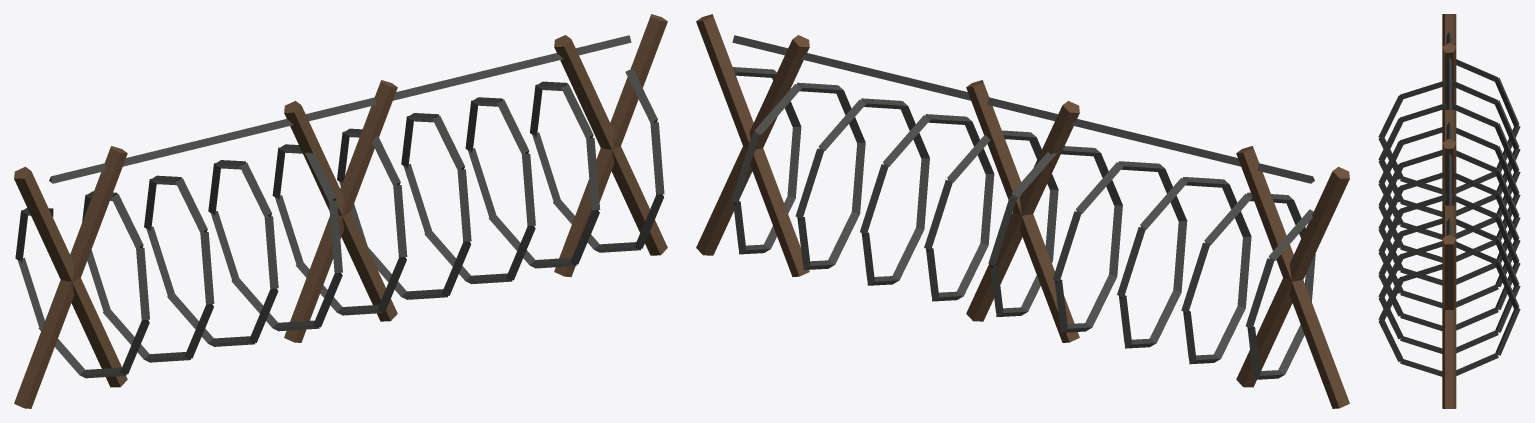
File: barbed_wire.glb
The picture shows the model from 3 angles, left to right: view 1: azimuth 30°, elevation 25°; view 2: azimuth 150°, elevation 25°; view 3: azimuth 270°, elevation 25°; orthographic projection. The views are drawn at different scales.
Parts seen in each view (by area): view 1: LOD0; view 2: LOD0; view 3: LOD0.
Boxes of the visible parts, left/top/right/bottom form: LOD0: left=14, top=14, right=667, bottom=408; LOD0: left=696, top=14, right=1349, bottom=408; LOD0: left=1378, top=14, right=1520, bottom=408.
Size of what is drawn, in the model's own units: 3.37 by 1.19 by 0.878.
Materials: 1 (1 with a texture image).
